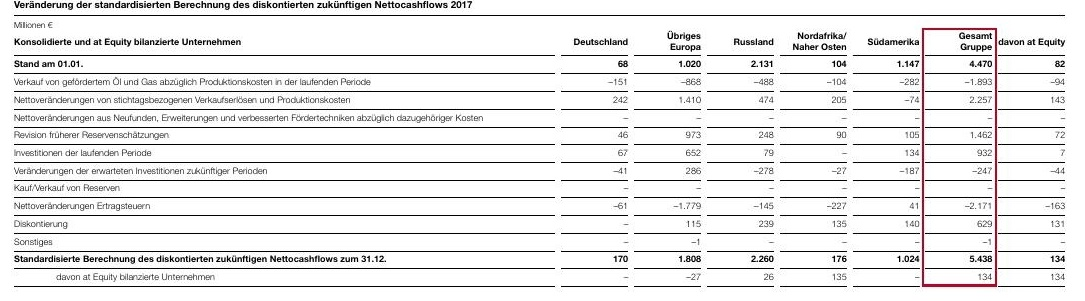table: (0, 0, 1085, 301)
